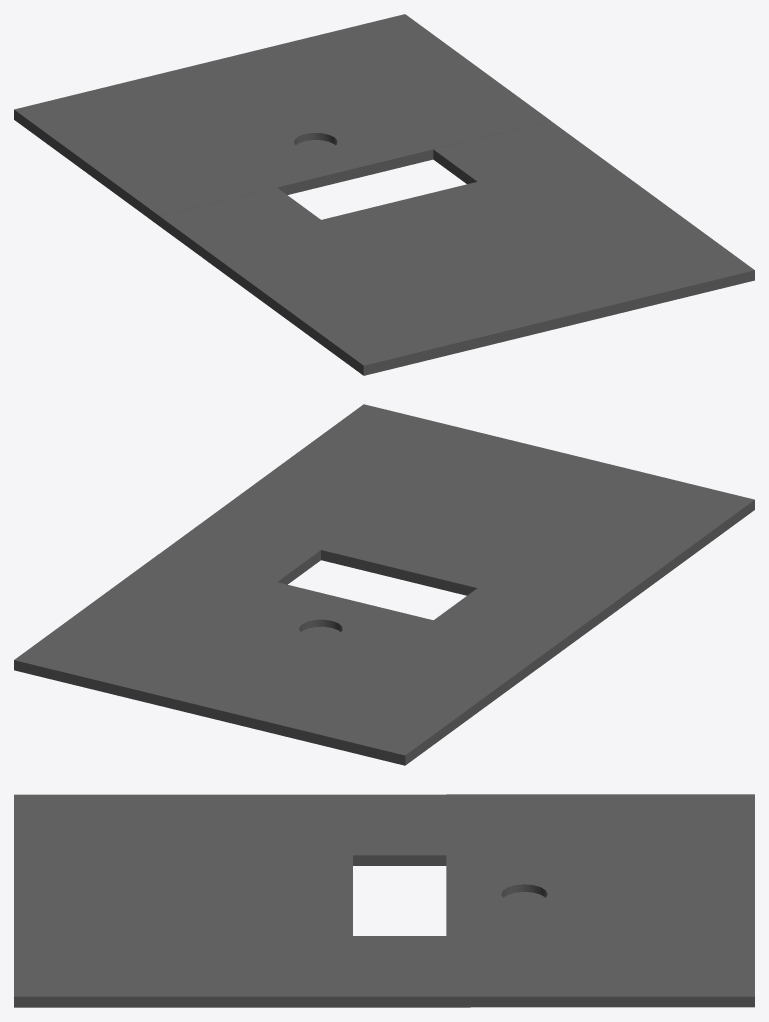
File: floor_4.fbx
The picture shows the model from 3 angles, top to bottom: view 1: azimuth 30°, elevation 25°; view 2: azimuth 150°, elevation 25°; view 3: azimuth 270°, elevation 25°; orthographic projection. The views are drawn at different scales.
Visible parts, largest first — view 1: m4; view 2: m4; view 3: m4.
Boxes of the visible parts, <box> form: m4: <box>14,14,754,375</box>; m4: <box>14,404,754,765</box>; m4: <box>14,794,754,1007</box>.
Bounding box in the file's own units: 4000 × 102 × 6195.
Materials: 1 (1 with a texture image).
